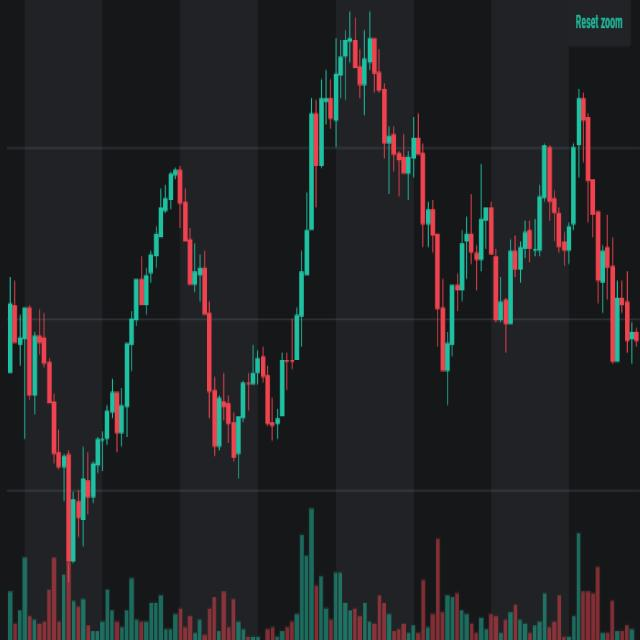Resistance-breakout: (154, 0, 358, 467), (5, 141, 202, 561)
